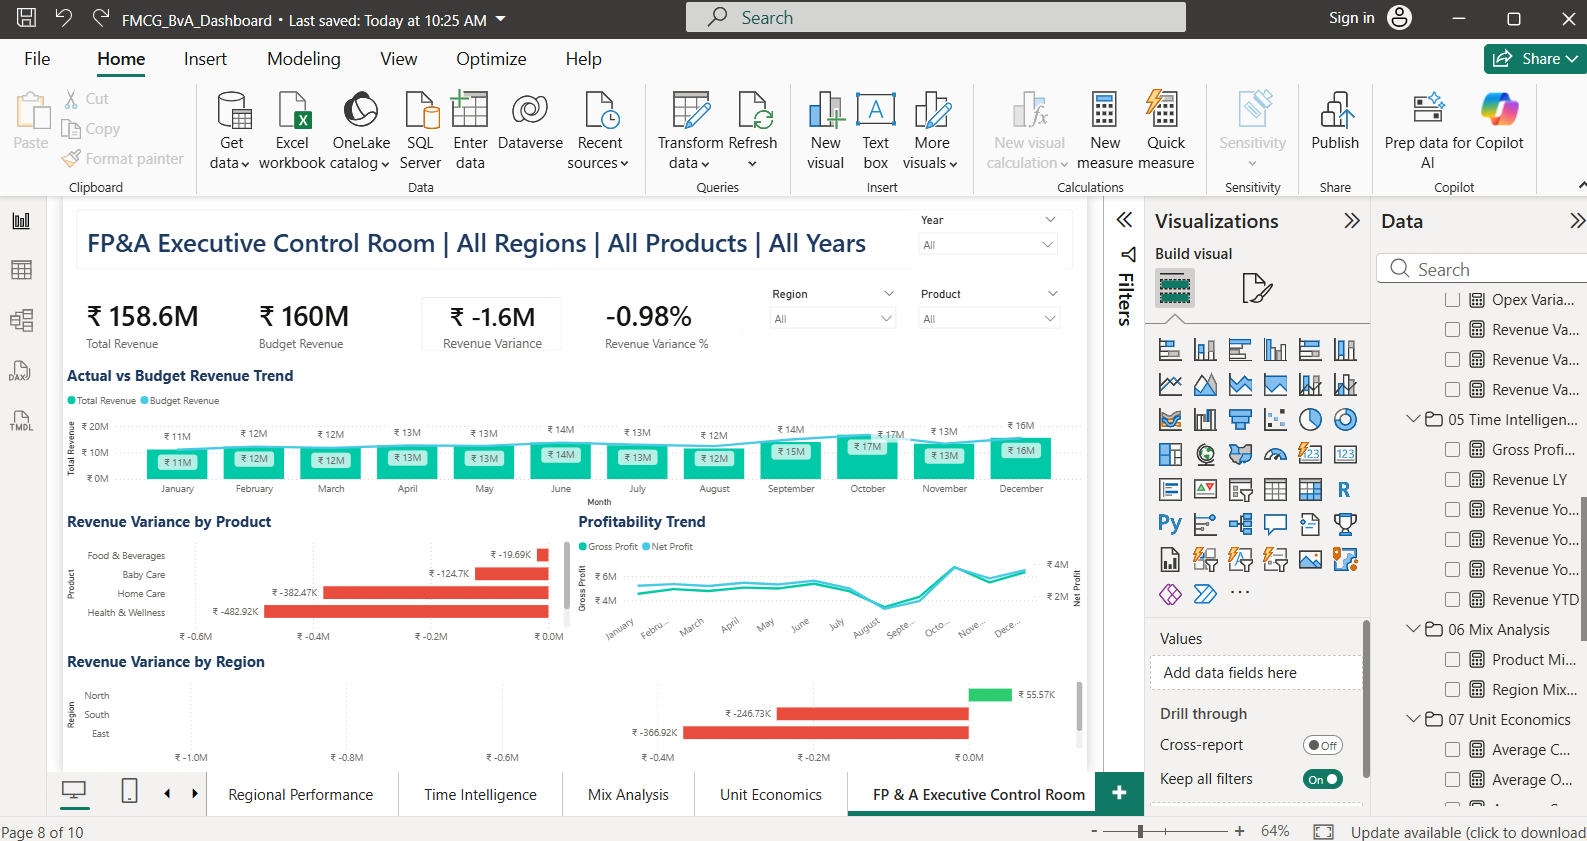

This screenshot's page, from the dashboard's own definition file:
{"tool":"powerbi","page":{"name":"FP & A Executive Control Room","canvas":[1280,720],"ordinal":7},"visuals":[{"type":"cardVisual","fields":{"Data":["_Measures.Dashboard Title"]},"box":[0,0,1280,109.7],"z":0},{"type":"slicer","fields":{"Values":["Dim_Date.Year"]},"box":[1059.4,17.2,193.8,76.6],"z":1000},{"type":"slicer","fields":{"Values":["Dim_Region.Region"]},"box":[873.4,109.4,178.1,78.1],"z":2000},{"type":"slicer","fields":{"Values":["Dim_Product.Product"]},"box":[1059.4,109.4,196.9,76.6],"z":3000},{"type":"cardVisual","fields":{"Data":["_Measures.Total Revenue"]},"box":[0,109.4,207.8,101.6],"z":4000},{"type":"cardVisual","fields":{"Data":["_Measures.Budget Revenue"]},"box":[215.6,109.4,207.8,101.6],"z":5000},{"type":"cardVisual","fields":{"Data":["_Measures.Revenue Variance"]},"box":[431.3,109.4,209.4,101.6],"z":6000},{"type":"cardVisual","fields":{"Data":["_Measures.Revenue Variance %"]},"box":[648.4,109.4,217.2,101.6],"z":7000},{"type":"lineClusteredColumnComboChart","title":"Actual vs Budget Revenue Trend","fields":{"Category":["Dim_Date.Month"],"Y":["_Measures.Total Revenue"],"Y2":["_Measures.Budget Revenue"]},"box":[0,210.9,1279.7,182.8],"z":8000},{"type":"clusteredBarChart","fields":{"Category":["Dim_Product.Product"],"Y":["_Measures.Revenue Variance"]},"box":[0,393.8,639.1,175],"z":9000},{"type":"lineChart","title":"Profitability Trend","fields":{"Category":["Dim_Date.Month"],"Y":["_Measures.Gross Profit"],"Y2":["_Measures.Net Profit"]},"box":[639.1,393.8,640.6,175],"z":10000},{"type":"clusteredBarChart","fields":{"Category":["Dim_Region.Region"],"Y":["_Measures.Revenue Variance"]},"box":[0,568.8,1279.7,151.6],"z":11000}]}

Visuals, with their boxes on the page's 1280x720 design canvas (x1, y1, x2, y2). These are canvas units, not pixel positions in the 1587x841 screenshot, which may show the page scaled, cropped or inside an application window:
cardVisual - _Measures.Dashboard Title: crop(0, 0, 1280, 110)
slicer - Dim_Date.Year: crop(1059, 17, 1253, 94)
slicer - Dim_Region.Region: crop(873, 109, 1052, 188)
slicer - Dim_Product.Product: crop(1059, 109, 1256, 186)
cardVisual - _Measures.Total Revenue: crop(0, 109, 208, 211)
cardVisual - _Measures.Budget Revenue: crop(216, 109, 423, 211)
cardVisual - _Measures.Revenue Variance: crop(431, 109, 641, 211)
cardVisual - _Measures.Revenue Variance %: crop(648, 109, 866, 211)
"Actual vs Budget Revenue Trend" lineClusteredColumnComboChart: crop(0, 211, 1280, 394)
clusteredBarChart - Dim_Product.Product x _Measures.Revenue Variance: crop(0, 394, 639, 569)
"Profitability Trend" lineChart: crop(639, 394, 1280, 569)
clusteredBarChart - Dim_Region.Region x _Measures.Revenue Variance: crop(0, 569, 1280, 720)
